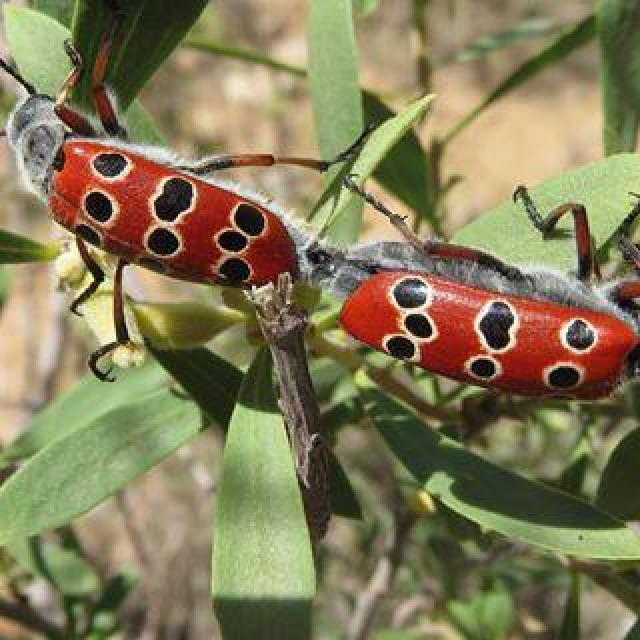BlisterBeetle-Adult-: (2, 37, 318, 351), (313, 154, 638, 409)
